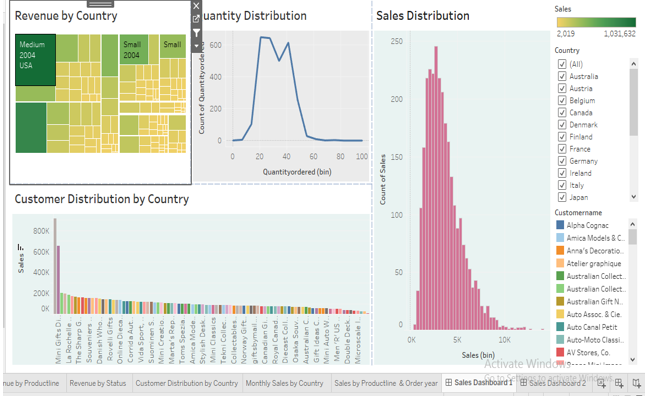

The page's visual inventory and layout, read from the dashboard file:
{"tool":"tableau","page":{"name":"Sales Dashboard 1","canvas":[1000,1000],"units":"permille","ordinal":0},"visuals":[{"type":"worksheet","title":"Revenue by Country","mark":"Automatic","box":[6.9,13.5,352,511.8]},{"type":"worksheet","title":"Quantity Distribution","mark":"Line","rows":["QUANTITYORDERED"],"cols":["Quantityordered (bin)"],"box":[358.9,13.5,215.4,511.8]},{"type":"worksheet","title":"Sales Distribution","mark":"Automatic","rows":["SALES"],"cols":["Sales (bin)"],"box":[574.3,13.5,280.2,973]},{"type":"legend","title":"Revenue by Country","param":"[federated.1jkcy2u0u6a9jw157zj5j0occhv6].[sum:SALES:qk]","box":[854.5,13.5,138.5,109.8]},{"type":"filter","title":"Customer Distribution by Country","param":"[federated.1jkcy2u0u6a9jw157zj5j0occhv6].[none:COUNTRY:nk]","box":[854.5,123.3,138.5,431.6]},{"type":"worksheet","title":"Customer Distribution by Country","mark":"Automatic","rows":["SALES"],"cols":["CUSTOMERNAME"],"box":[6.9,525.3,567.4,461.2]},{"type":"legend","title":"Customer Distribution by Country","param":"[federated.1jkcy2u0u6a9jw157zj5j0occhv6].[none:CUSTOMERNAME:nk]","box":[854.5,554.9,138.5,431.6]}]}

Visuals, with their boxes on the dashboard's canvas, which has no fixed pixel size, in thousandths of its width and height (x1, y1, x2, y2). These are canvas units, not pixel positions in the 648x398 screenshot, which may show the page scaled, cropped or inside an application window:
"Revenue by Country" worksheet: (7, 14, 359, 525)
"Quantity Distribution" worksheet (Line marks): (359, 14, 574, 525)
"Sales Distribution" worksheet: (574, 14, 854, 986)
"Revenue by Country" legend: (854, 14, 993, 123)
"Customer Distribution by Country" filter: (854, 123, 993, 555)
"Customer Distribution by Country" worksheet: (7, 525, 574, 986)
"Customer Distribution by Country" legend: (854, 555, 993, 986)
